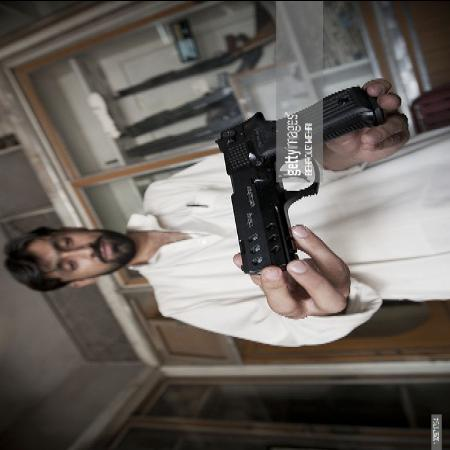Pistol: (213, 84, 385, 276)
